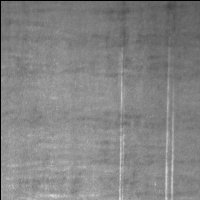scratches: (163, 72, 178, 200), (116, 59, 127, 200)
